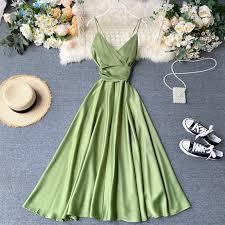dress: (38, 19, 176, 225)
